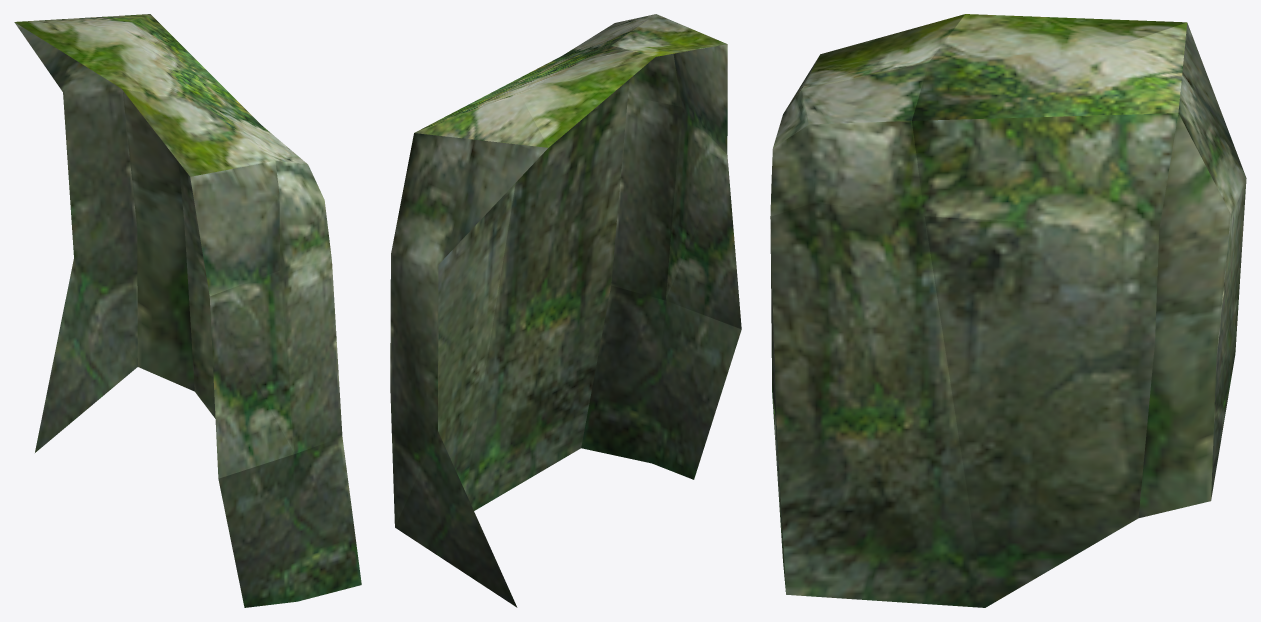
The model's file is S_Rock_Green048_1060_22.fbx.
The picture shows the model from 3 angles, left to right: view 1: azimuth 30°, elevation 25°; view 2: azimuth 150°, elevation 25°; view 3: azimuth 270°, elevation 25°; orthographic projection. The views are drawn at different scales.
Visible parts, largest first — view 1: S_Rock_Green048_1060_22; view 2: S_Rock_Green048_1060_22; view 3: S_Rock_Green048_1060_22.
Part boxes in pixels (box(x1,y1,x2,y2)): S_Rock_Green048_1060_22: box(14, 14, 361, 607); S_Rock_Green048_1060_22: box(390, 14, 741, 607); S_Rock_Green048_1060_22: box(770, 14, 1246, 607).
Bounding box in the file's own units: 814 × 2076 × 1779.
Materials: 1 (1 with a texture image).
